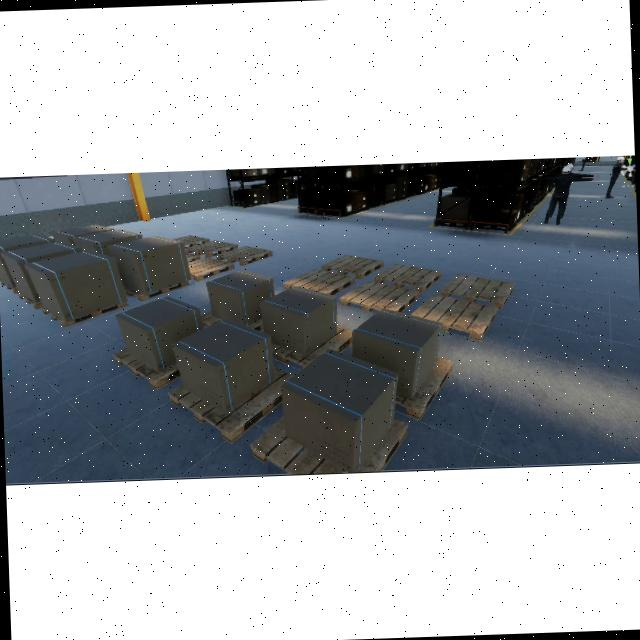wooden_pallet: (167, 365, 296, 444), (250, 414, 409, 474), (410, 293, 498, 341), (394, 355, 455, 417), (113, 346, 182, 390), (439, 273, 515, 309), (339, 280, 420, 313), (40, 300, 129, 327), (282, 267, 355, 296), (373, 263, 442, 292), (321, 253, 384, 279), (215, 244, 272, 266), (125, 281, 190, 300), (188, 257, 234, 281), (185, 239, 238, 257), (173, 234, 209, 247), (186, 252, 200, 262)
